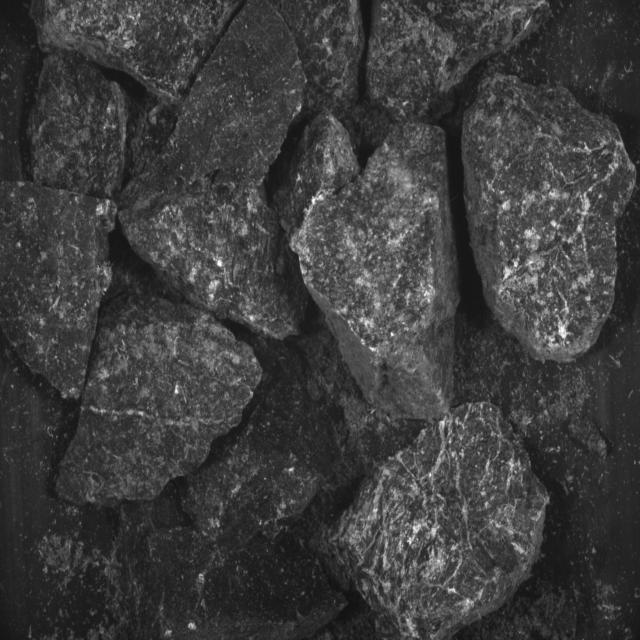Stones: (120, 3, 307, 340), (331, 403, 550, 640), (464, 75, 637, 363), (292, 124, 460, 420), (57, 297, 262, 506), (185, 357, 339, 547), (1, 183, 116, 400), (367, 1, 550, 121), (32, 1, 244, 104), (30, 52, 129, 199), (275, 112, 361, 237), (282, 1, 365, 113)
